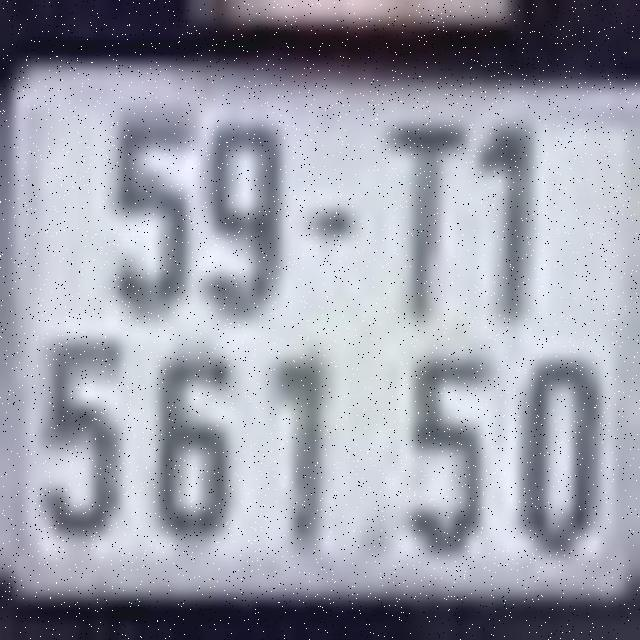0: (519, 353, 602, 556)
1: (478, 117, 538, 322), (273, 350, 326, 550)
5: (41, 333, 125, 538), (114, 110, 194, 317), (409, 353, 490, 556)
6: (157, 348, 233, 540)
9: (206, 118, 282, 320)
T: (387, 118, 466, 322)
